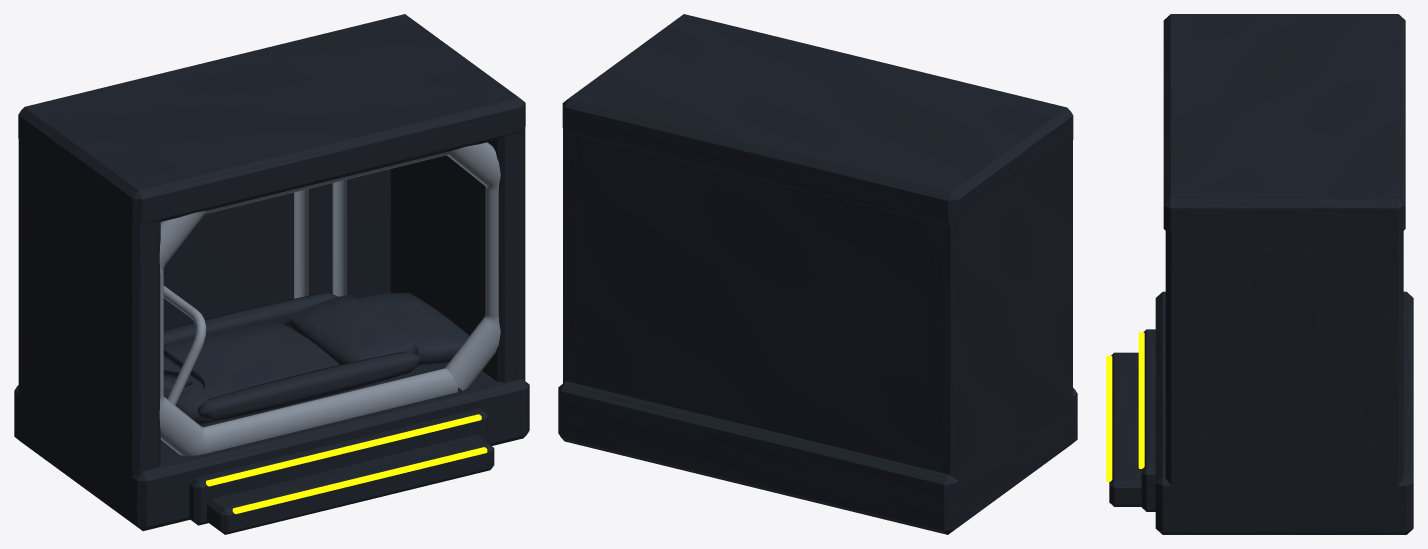
The model's file is bunk_r1_08.glb.
The picture shows the model from 3 angles, left to right: view 1: azimuth 30°, elevation 25°; view 2: azimuth 150°, elevation 25°; view 3: azimuth 270°, elevation 25°; orthographic projection.
Parts seen in each view (by area): view 1: StasisAlcove_ArmoredDeckAndChamber, StasisAlcove_BiLevelStasisCouch, StasisAlcove_ApertureAndScannerHalo, StasisAlcove_AmberDeckHazardStrips; view 2: StasisAlcove_ArmoredDeckAndChamber; view 3: StasisAlcove_ArmoredDeckAndChamber, StasisAlcove_AmberDeckHazardStrips.
Boxes of the visible parts, x1,y1,x2,y2 form: StasisAlcove_ArmoredDeckAndChamber: [14, 14, 529, 534]; StasisAlcove_BiLevelStasisCouch: [163, 292, 468, 425]; StasisAlcove_ApertureAndScannerHalo: [159, 142, 500, 456]; StasisAlcove_AmberDeckHazardStrips: [206, 414, 487, 514]; StasisAlcove_ArmoredDeckAndChamber: [558, 14, 1077, 534]; StasisAlcove_ArmoredDeckAndChamber: [1109, 14, 1413, 534]; StasisAlcove_AmberDeckHazardStrips: [1106, 332, 1144, 481].
Size of the model in its own units: 2.24 by 1.84 by 1.52.
5 materials, 5 textured.
